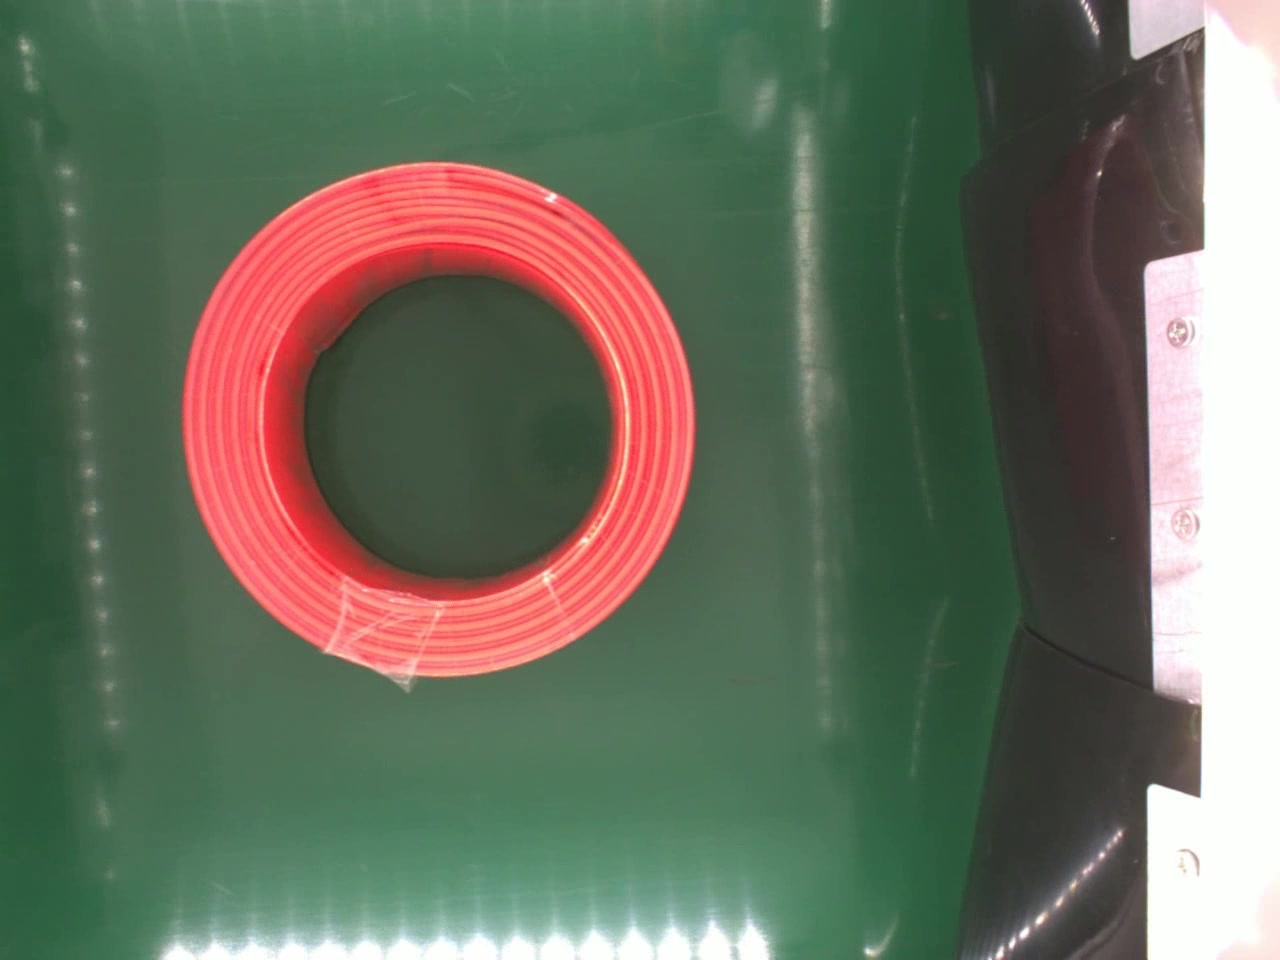red: (178, 160, 698, 682)
